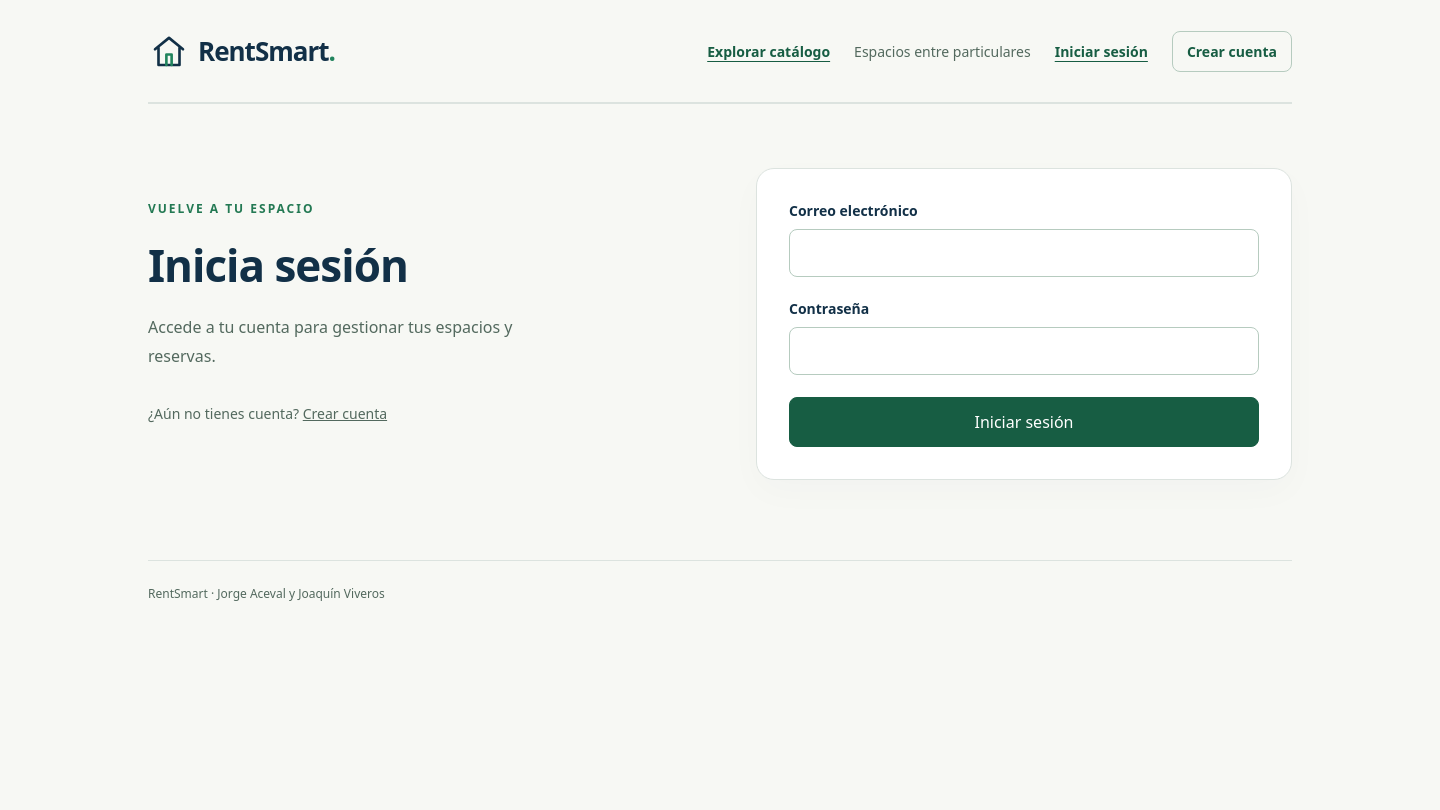
Test case: HU02 CP-01: inicia sesión, conserva solo la sesión y permite navegar a reservas
The width and height of the screenshot is (1440, 810).
Type "JORGE@example.com  " into the field labelled "Correo electrónico" at [1024, 253], box x1=789 y1=229 x2=1259 y2=277
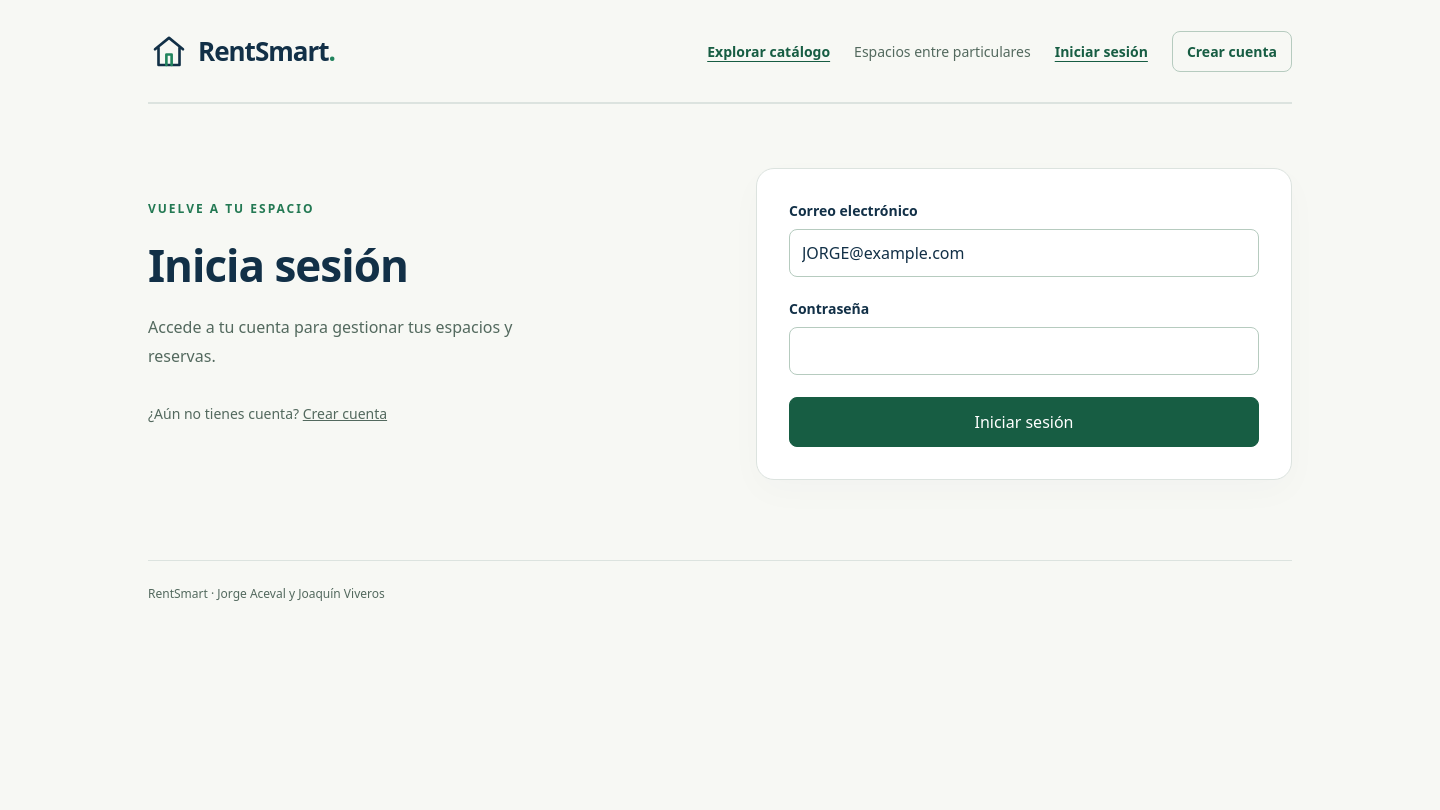
Type "  Clave exacta 2026!  " into the password field labelled "Contraseña" at [1024, 351], box x1=789 y1=327 x2=1259 y2=375
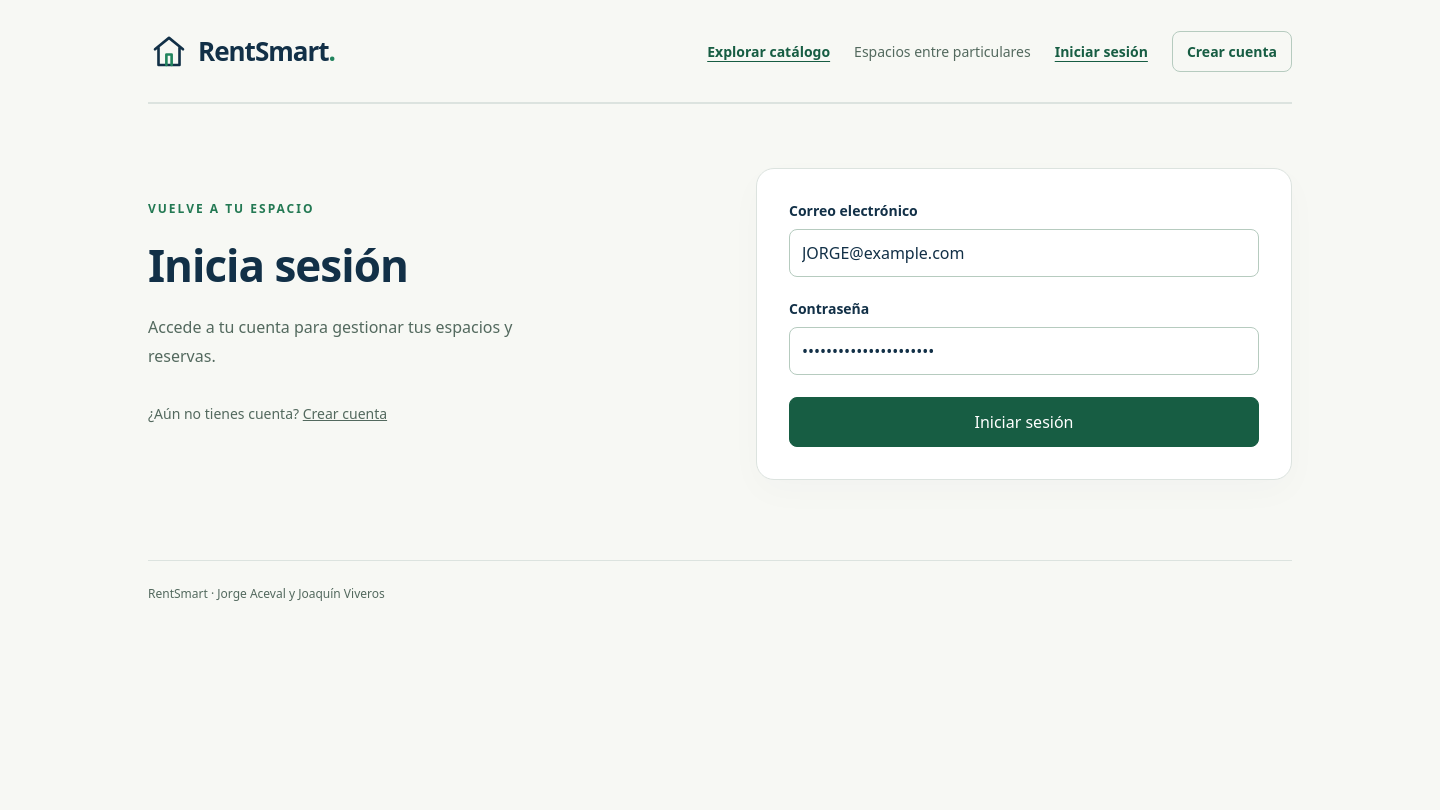
Click the button "Iniciar sesión" at [1024, 422], box x1=789 y1=397 x2=1259 y2=447
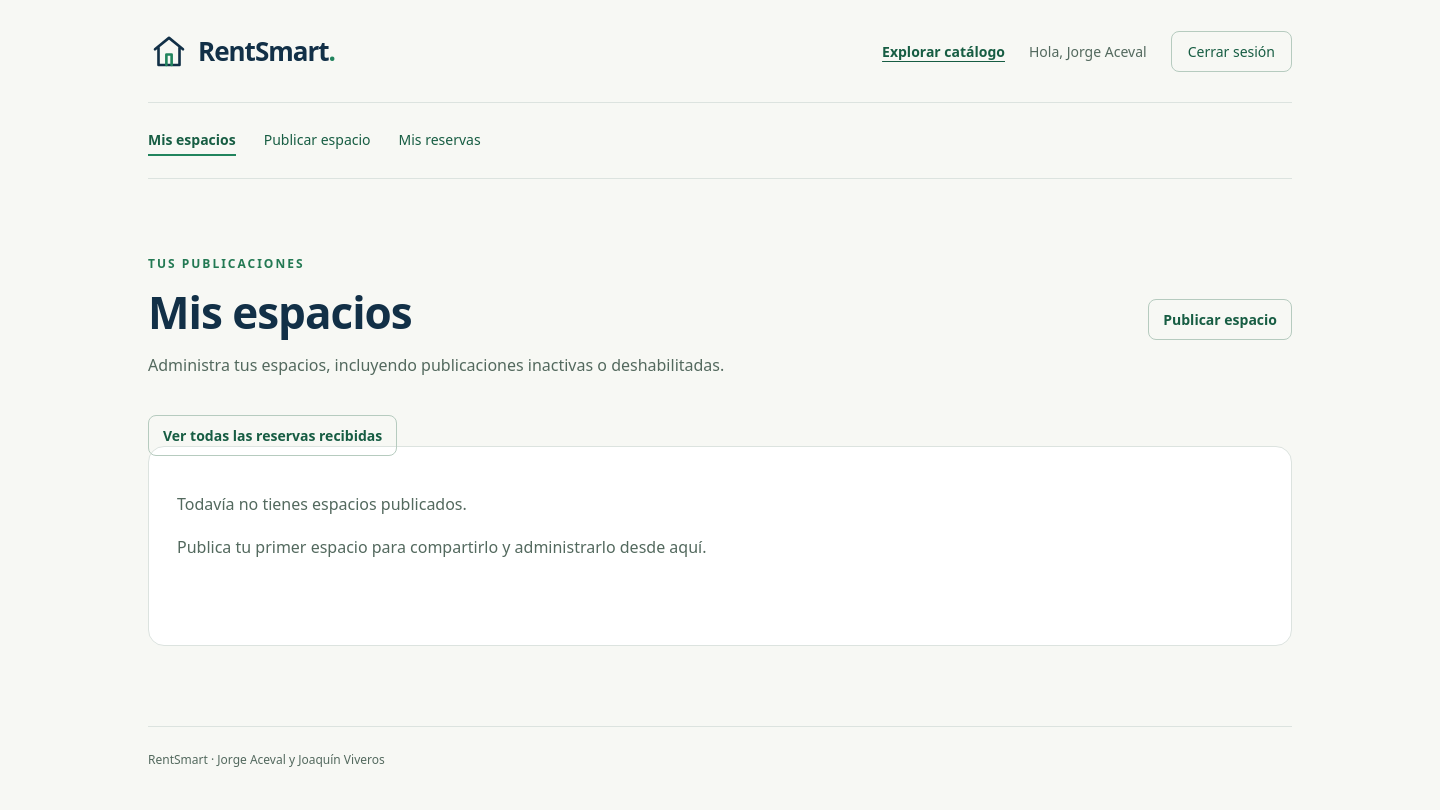
expect the heading "Mis espacios" is shown: met, box x1=148 y1=282 x2=412 y2=342
expect the text "Hola, Jorge Aceval" is shown: met, box x1=1029 y1=42 x2=1147 y2=60
Click the link "Mis reservas" at [440, 140], box x1=398 y1=125 x2=481 y2=156
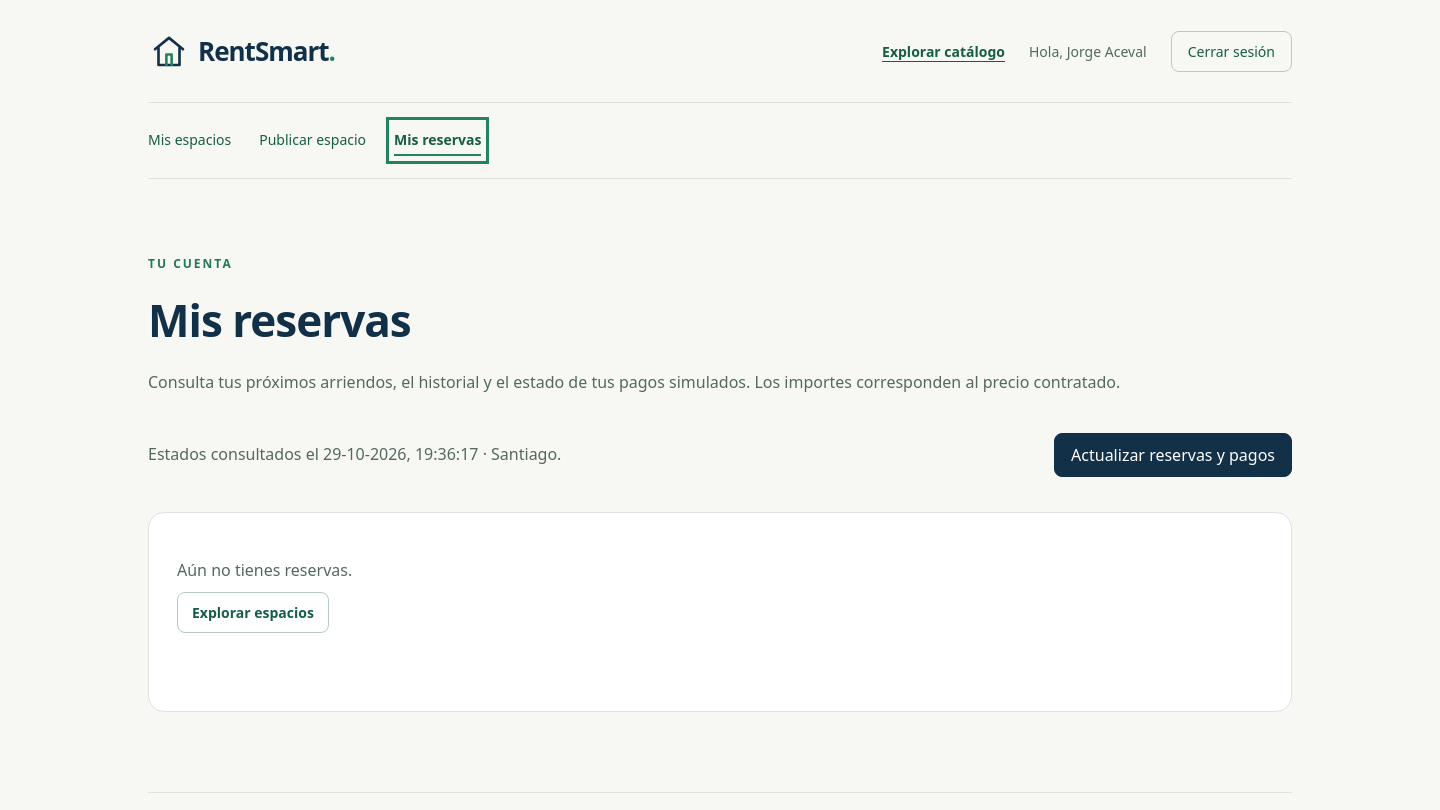
expect the heading "Mis reservas" is shown: met, box x1=148 y1=290 x2=411 y2=350
expect the text "Aún no tienes reservas." is shown: met, box x1=177 y1=559 x2=352 y2=581
